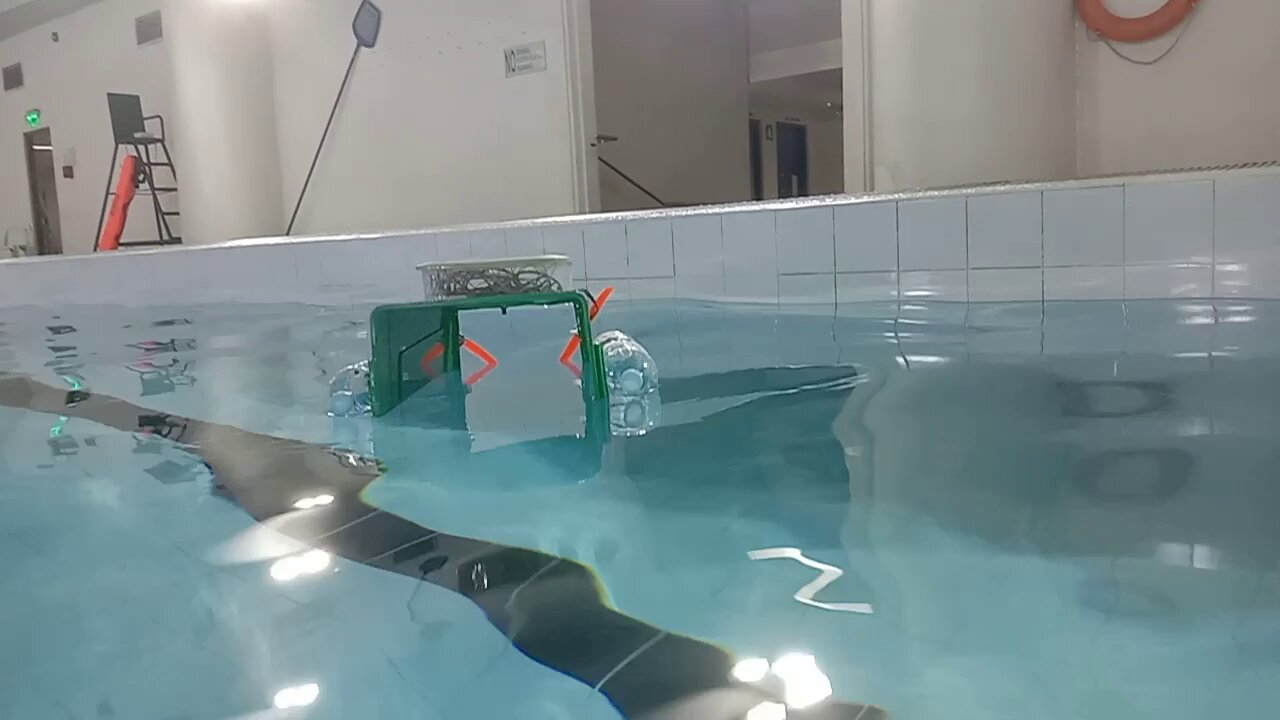drone: (328, 253, 666, 424)
